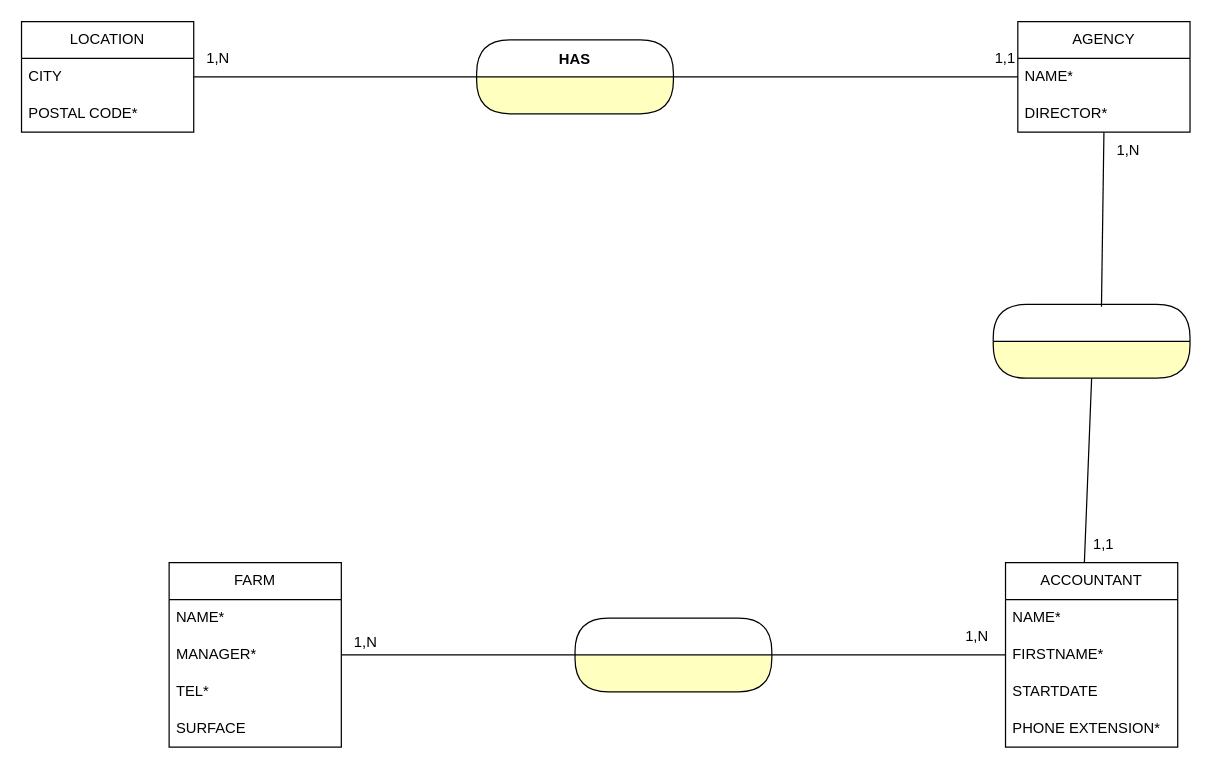
Image size: 1212x769. Some labels were removed from this diagram. Here are the shapes that lost their labels. From the top down, the centre of each, then its label:
At point 1091,340: "WORKS".
At point 673,654: "MANAGES".
